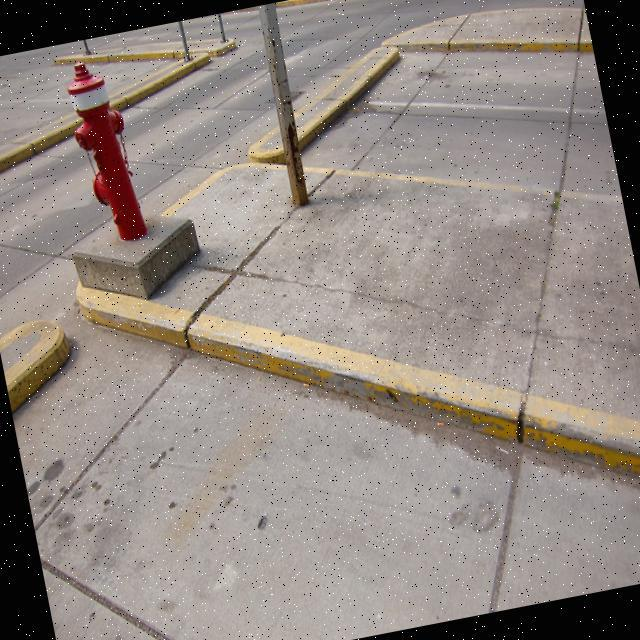fire_hydrant: (64, 52, 155, 251)
